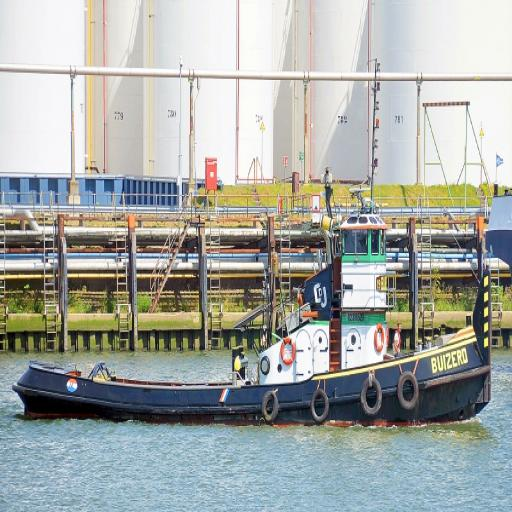tugboat: (9, 52, 497, 445)
